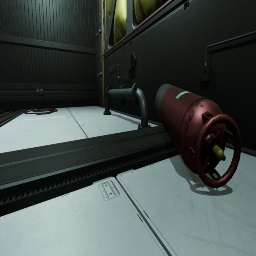NitrogenTank ,: (155, 83, 241, 188)
